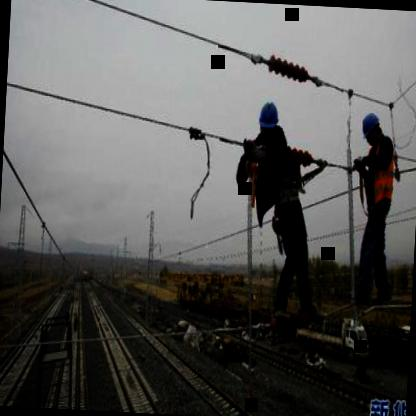helmet: (256, 95, 285, 145), (358, 103, 388, 150)
